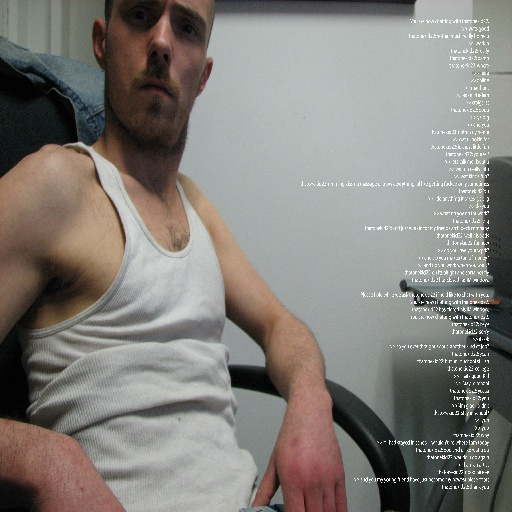hand: (226, 244, 365, 498), (37, 465, 126, 511)
